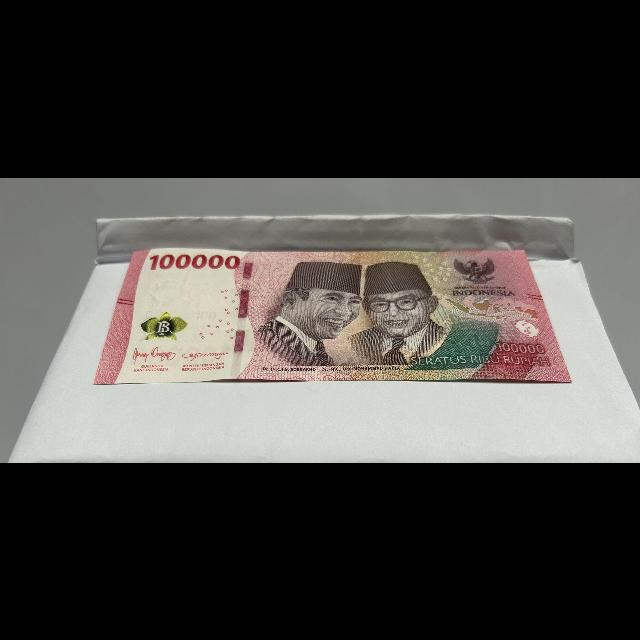Asli-100k: (89, 244, 576, 386)
Tinta-Asli-100k: (135, 309, 193, 341)
